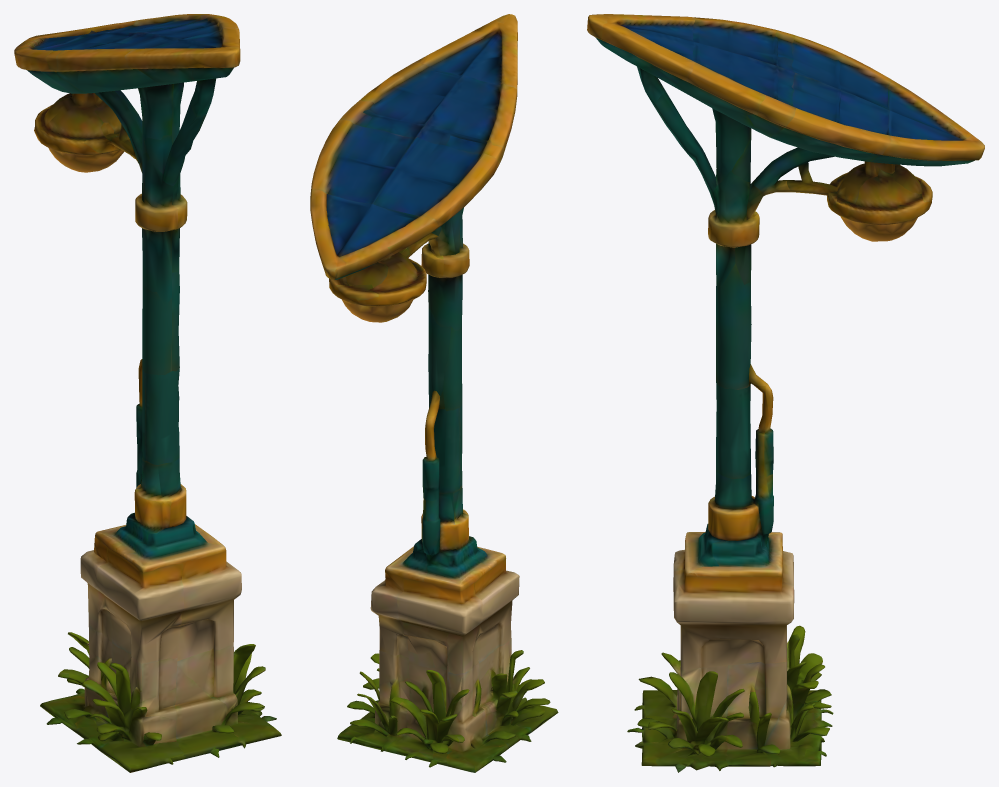
The model's file is st01-sunrail-lamp.glb.
3 views of the same model, side by side, from view 1: azimuth 30°, elevation 25°; view 2: azimuth 150°, elevation 25°; view 3: azimuth 270°, elevation 25° (orthographic). The views are drawn at different scales.
Parts seen in each view (by area): view 1: tripo_node_1aed6032-b29e-4a61-b3ad-e4021f5f697d; view 2: tripo_node_1aed6032-b29e-4a61-b3ad-e4021f5f697d; view 3: tripo_node_1aed6032-b29e-4a61-b3ad-e4021f5f697d.
Part boxes in pixels (x1,y1,x2,y2): tripo_node_1aed6032-b29e-4a61-b3ad-e4021f5f697d: [14, 14, 281, 772]; tripo_node_1aed6032-b29e-4a61-b3ad-e4021f5f697d: [310, 14, 558, 772]; tripo_node_1aed6032-b29e-4a61-b3ad-e4021f5f697d: [587, 14, 984, 772].
Bounding box in the file's own units: 0.258 × 0.9999 × 0.5041.
1 material, 1 textured.
